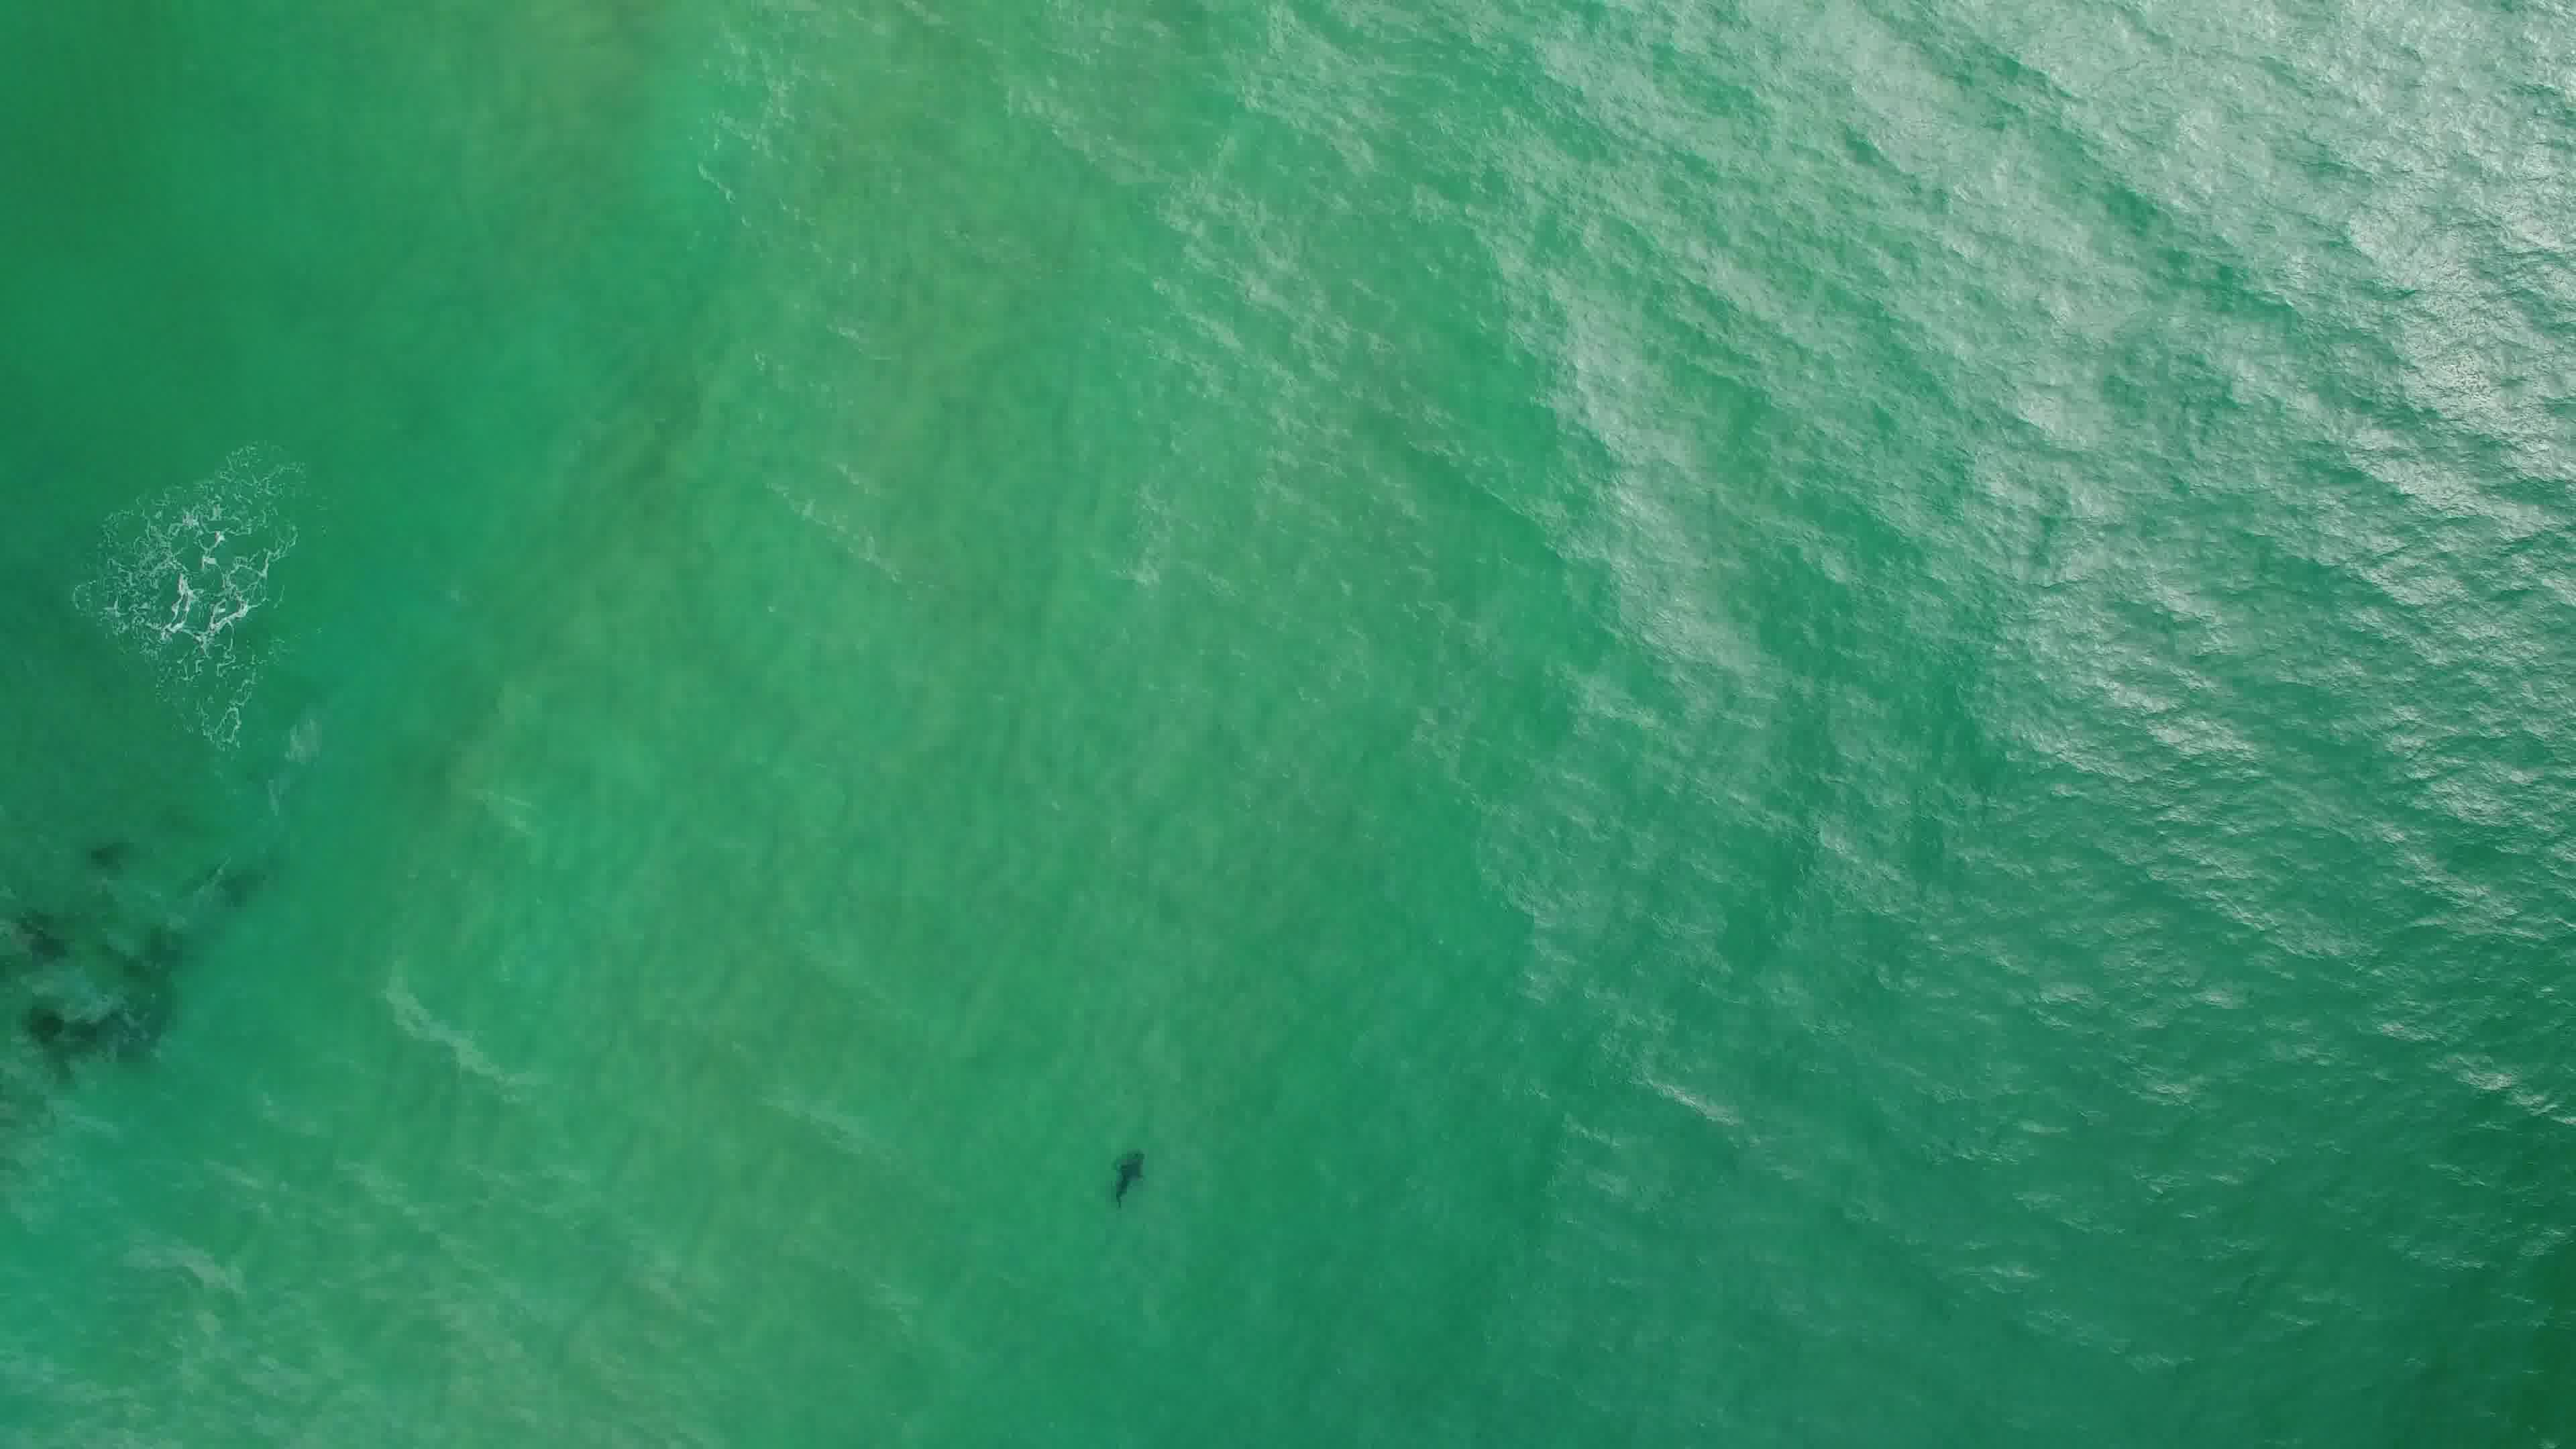shark: (1106, 1148, 1150, 1212)
